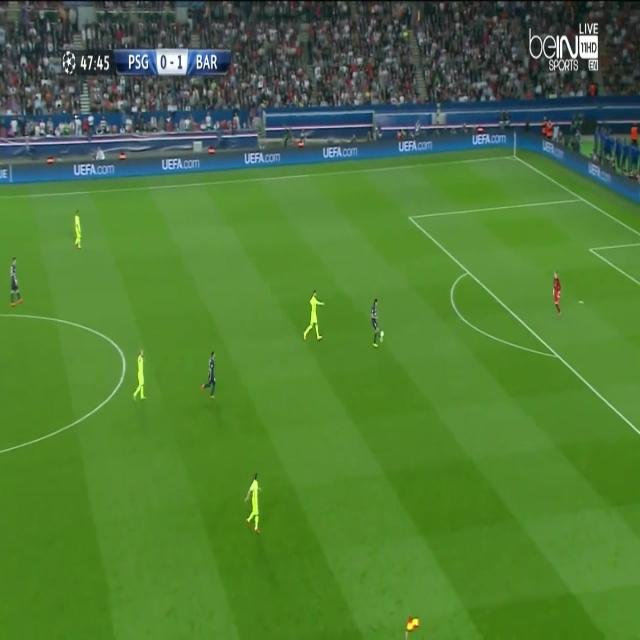Ball: (379, 327, 386, 340)
Goalkeeper: (549, 269, 566, 321)
Player: (244, 468, 264, 539), (302, 287, 327, 343), (131, 343, 149, 408), (199, 346, 219, 399), (7, 255, 23, 312), (368, 294, 381, 350), (73, 207, 83, 257)
